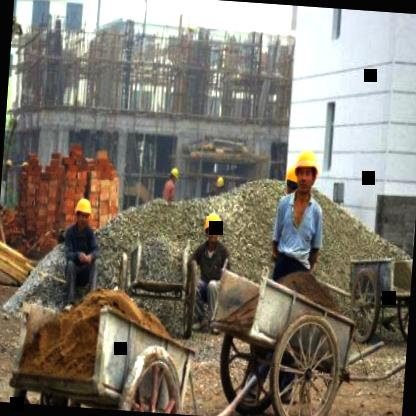helmet: (289, 146, 323, 200), (200, 210, 227, 249), (71, 194, 96, 233), (284, 162, 302, 200), (168, 165, 184, 189)
